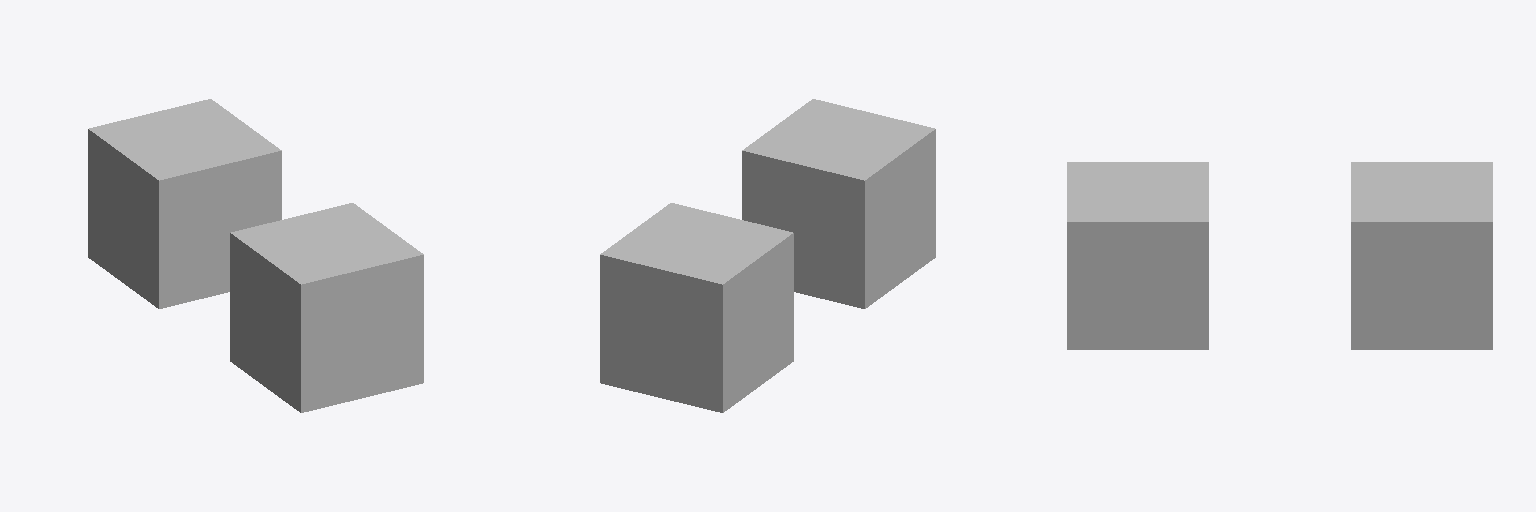
The model's file is DoubleCube.obj.
The picture shows the model from 3 angles: view 1: azimuth 30°, elevation 25°; view 2: azimuth 150°, elevation 25°; view 3: azimuth 270°, elevation 25°; orthographic projection.
Parts seen in each view (by area): view 1: Cube, Cube.001; view 2: Cube.001, Cube; view 3: Cube, Cube.001.
Part boxes in pixels (x1,y1,x2,y2): Cube: (230, 203, 423, 412); Cube.001: (88, 99, 281, 308); Cube.001: (600, 203, 793, 412); Cube: (742, 99, 935, 308); Cube: (1067, 162, 1208, 349); Cube.001: (1351, 162, 1492, 349).
Bounding box in the file's own units: 2 × 2 × 6.